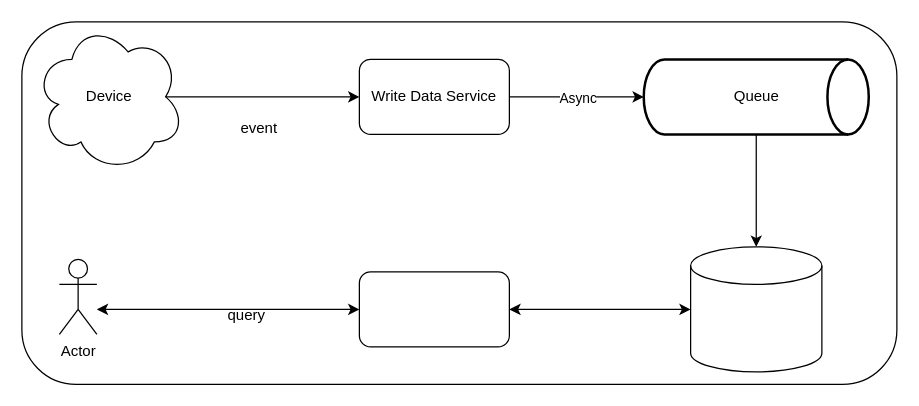
Image size: 919x406. Some labels were removed from this diagram. The centre of each missing label's shape, as x and y in pixels:
"Mongo" goes at (x=755, y=309).
"Read Data Service" goes at (x=433, y=309).
